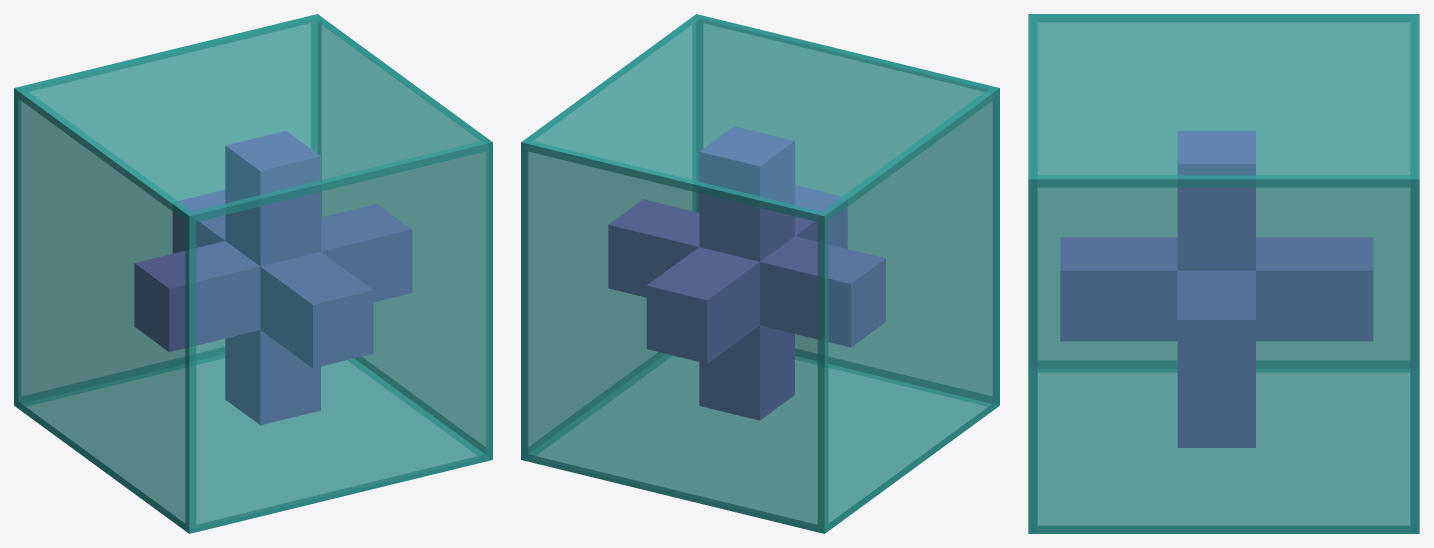
Rendered from cell-cross.dae.
The picture shows the model from 3 angles, left to right: view 1: azimuth 30°, elevation 25°; view 2: azimuth 150°, elevation 25°; view 3: azimuth 270°, elevation 25°; orthographic projection. The views are drawn at different scales.
Visible parts, largest first — view 1: Cell-Cross; view 2: Cell-Cross; view 3: Cell-Cross.
Boxes of the visible parts, x1=… form: Cell-Cross: x1=14, y1=14, x2=492, y2=533; Cell-Cross: x1=521, y1=14, x2=999, y2=533; Cell-Cross: x1=1028, y1=14, x2=1419, y2=533.
Size of the model in its own units: 0.6667 by 0.6667 by 0.6667.
